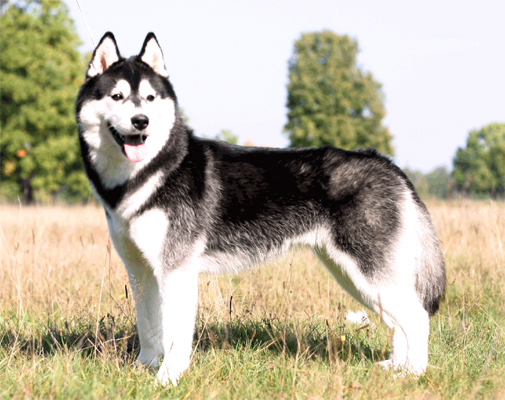dog: (75, 31, 447, 386)
